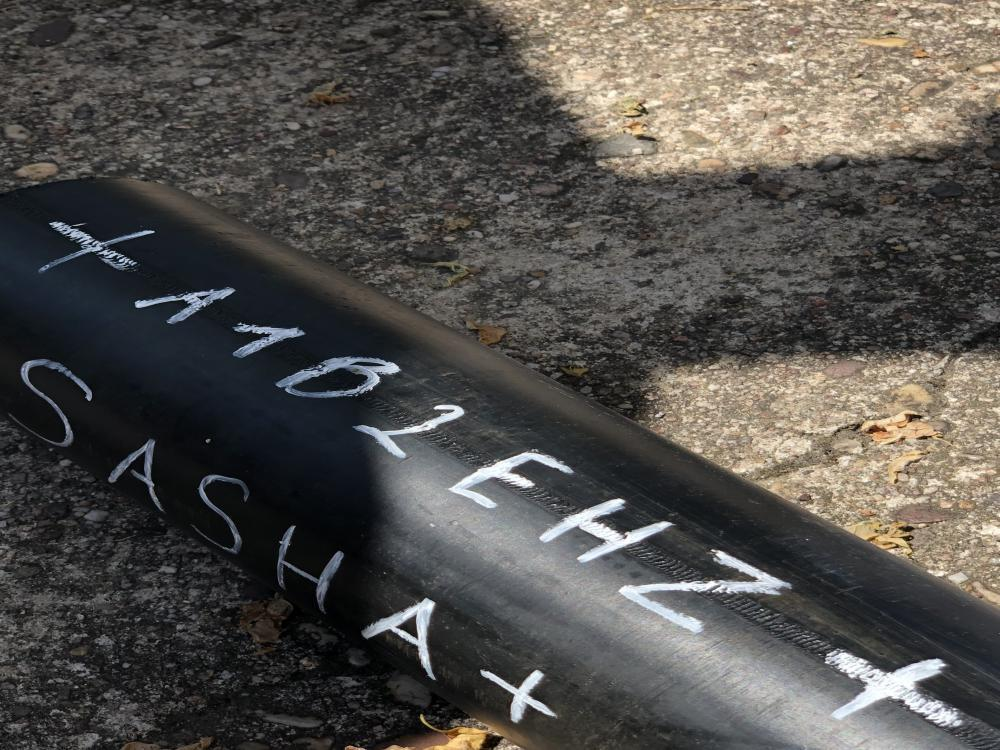+: (821, 648, 965, 730), (40, 221, 154, 273), (478, 666, 558, 720)
1: (226, 320, 300, 359)
2: (355, 402, 469, 459)
A: (362, 595, 446, 678), (134, 284, 242, 324), (108, 443, 170, 506)
B: (279, 354, 399, 398)
E: (454, 450, 575, 506)
H: (543, 498, 676, 562), (269, 524, 342, 612)
S: (14, 361, 94, 452), (193, 476, 254, 555)
Z: (616, 548, 794, 634)
